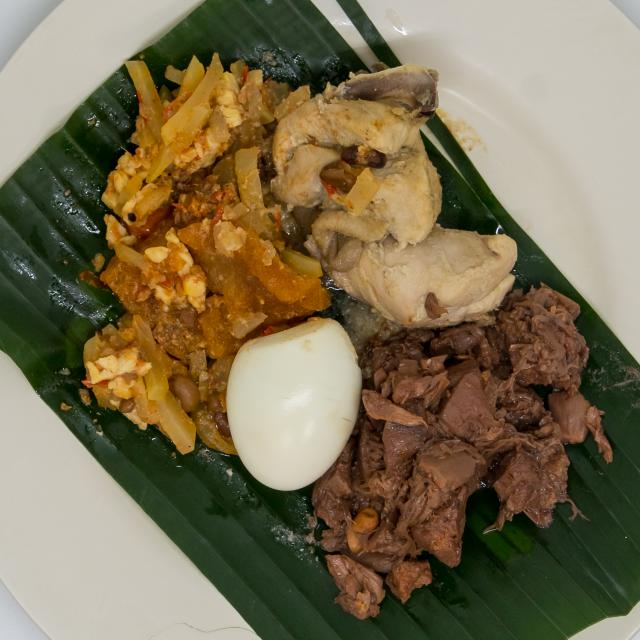Gudeg-Jogja: (64, 34, 612, 630)
